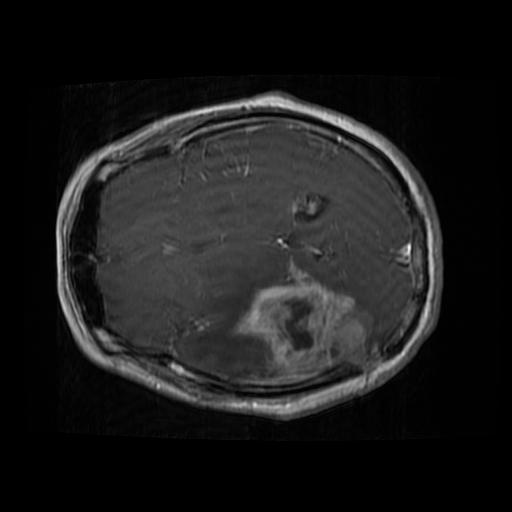glioma: (228, 260, 383, 387)
